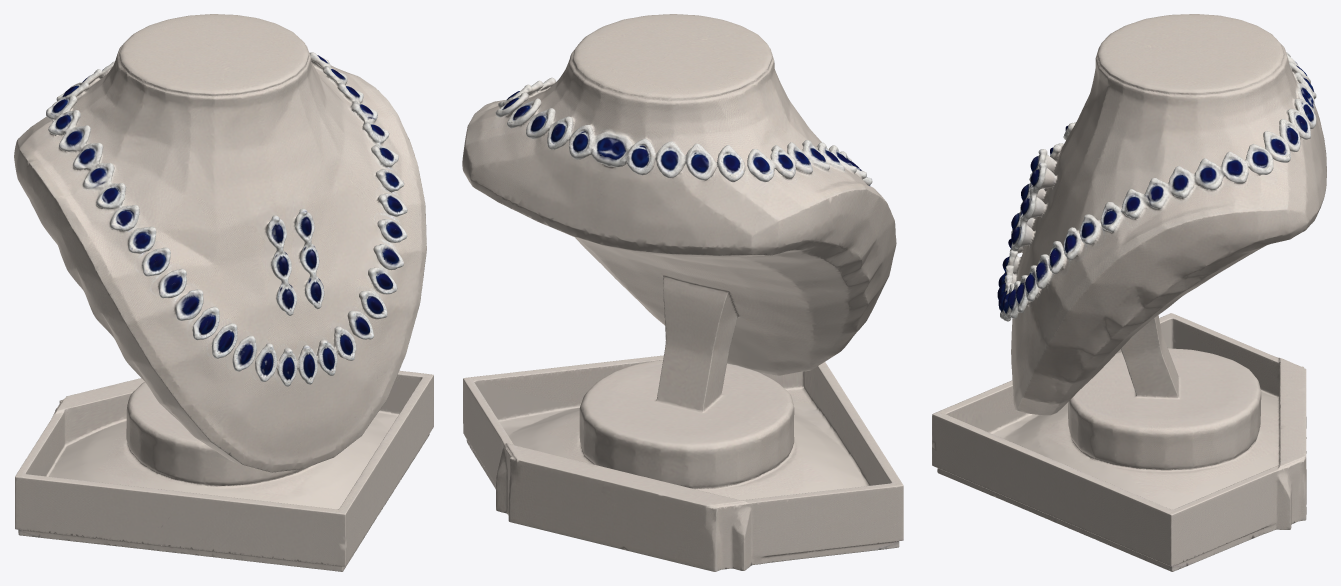
3 views of the same model, side by side, from view 1: azimuth 30°, elevation 25°; view 2: azimuth 150°, elevation 25°; view 3: azimuth 270°, elevation 25° (orthographic). The views are drawn at different scales.
Size of the model in its own units: 1.89 by 1.84 by 1.56.
Materials: 1 (1 with a texture image).
